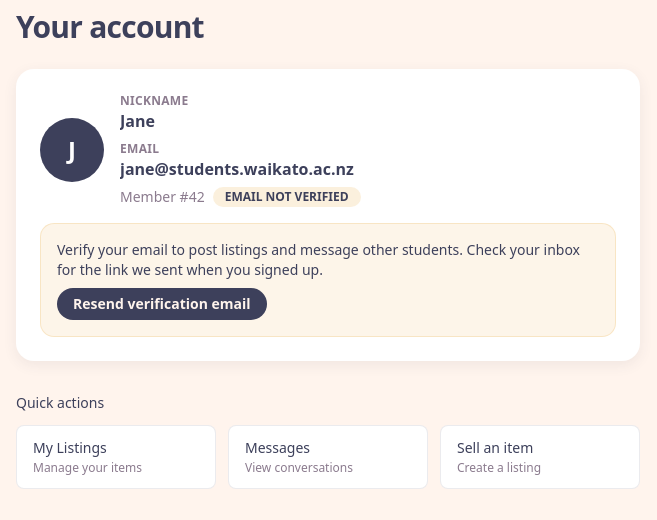
Test: MePage › POSTs to /api/auth/resend-verification and shows the sent confirmation
The image size is (657, 520).
Click the button "Resend verification email" at (162,304), box [57, 288, 266, 320]
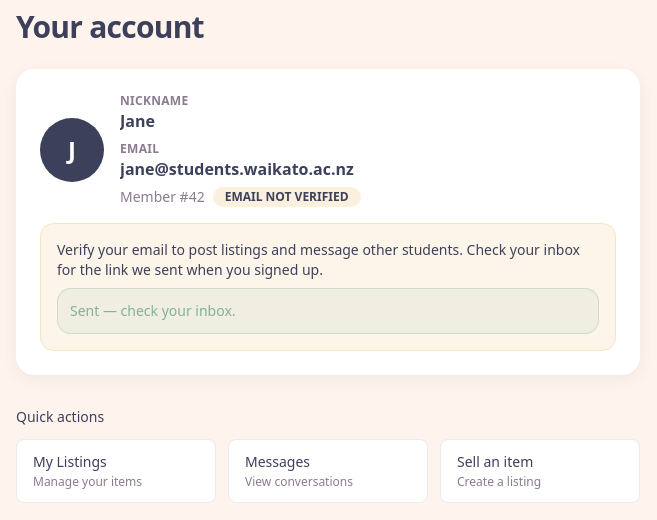
Result: the text "Sent — check your inbox." is shown at [57, 288, 599, 334]
Result: the button "Resend verification email" is gone
